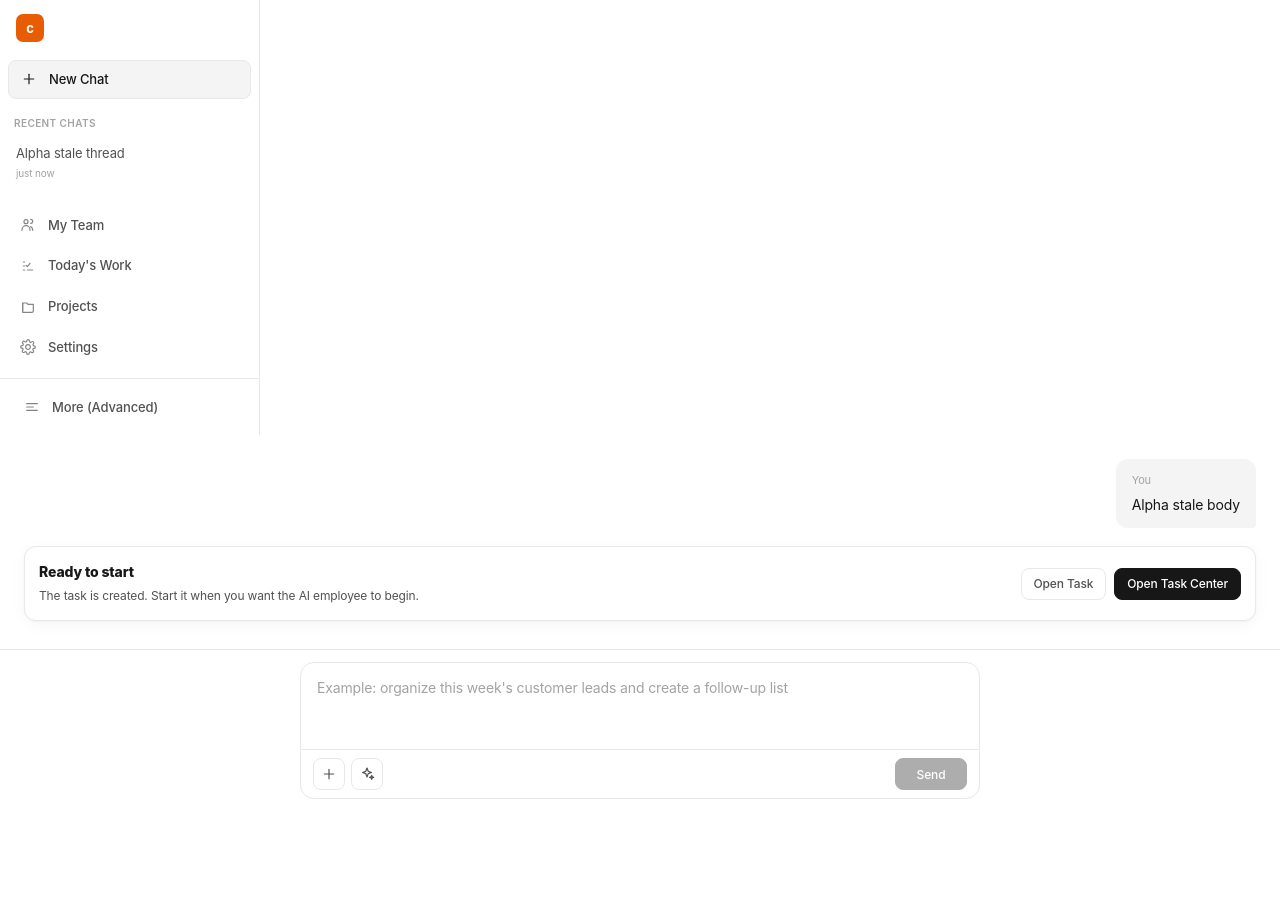
Test: mission session behavior › sidebar new chat clears the mounted mission view on the home route
Expected: the text "Alpha stale body" is shown, [1132,493,1240,516]
Step 1. Click the link "New Chat" → {"x": 130, "y": 79}, box [8,60,251,99]
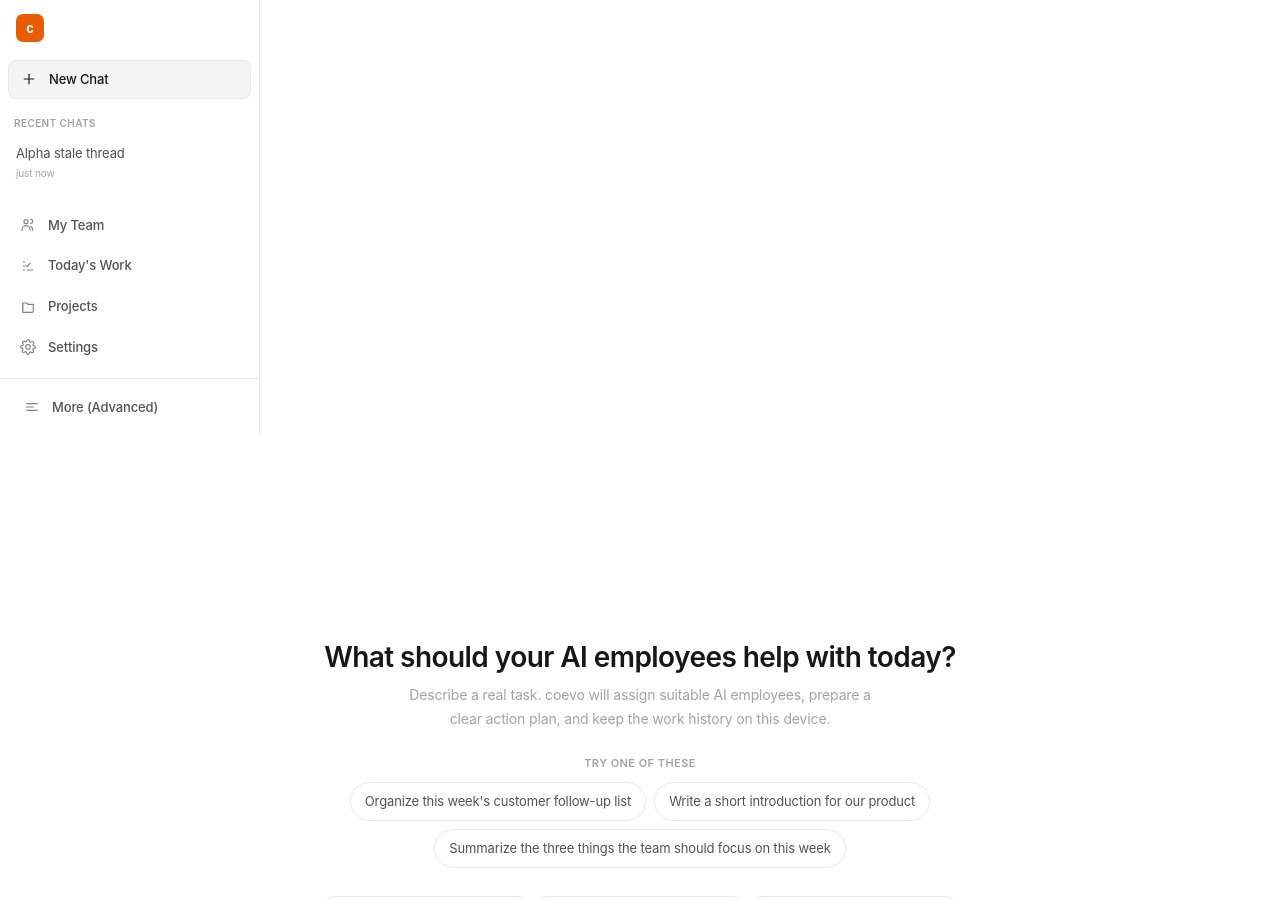
Expected: the text "Alpha stale body" is gone
Expected: the heading "What should your AI employees help with today?" is shown, [324,639,956,675]
